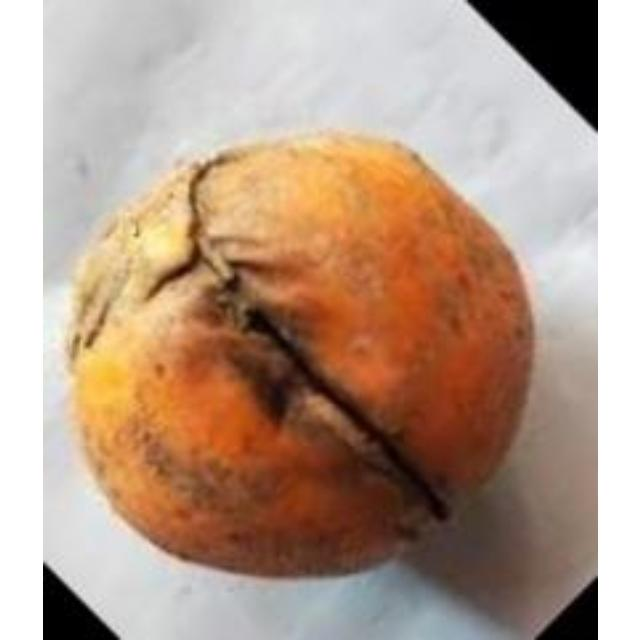damaged: (66, 130, 531, 574)
